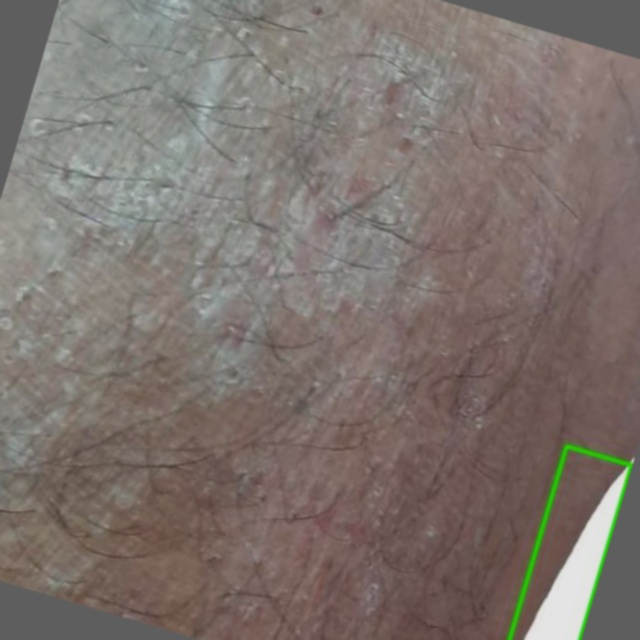Contact Dermatitis: (509, 446, 631, 639)
